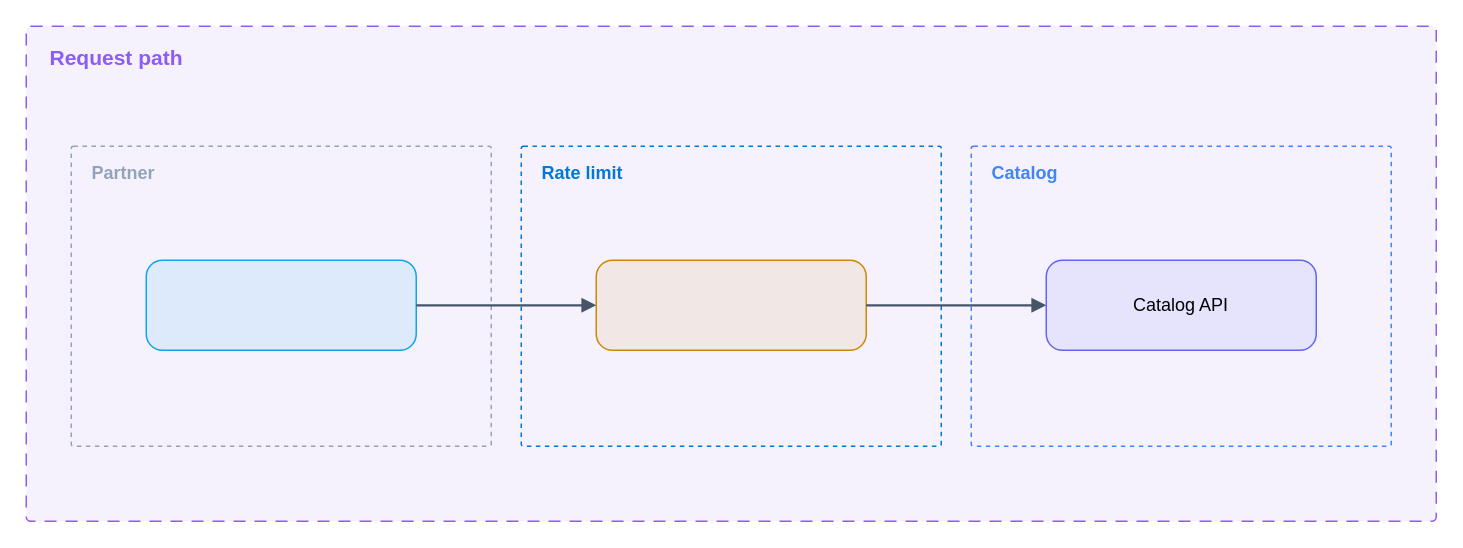
This 1463x548 diagram has some shape labels left out. The centre of each missing label's shape, as x and y in pixels:
"Partner client" belongs at [280,304].
"Rate limiter" belongs at [730,304].
